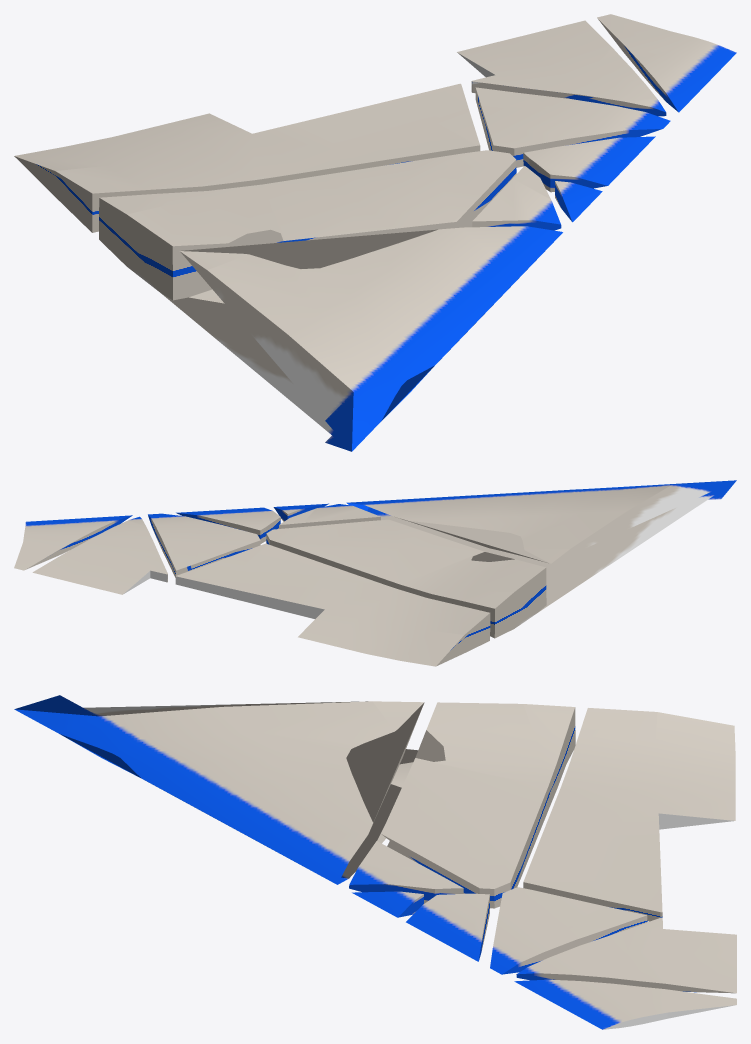
The model's file is heavy_wreckage4.fbx.
3 views of the same model, one above another, from view 1: azimuth 30°, elevation 25°; view 2: azimuth 150°, elevation 25°; view 3: azimuth 270°, elevation 25° (orthographic). The views are drawn at different scales.
Visible parts, largest first — view 1: broke_wingLeft; view 2: broke_wingLeft; view 3: broke_wingLeft.
Part boxes in pixels (x1,y1,x2,y2): broke_wingLeft: (14, 14, 736, 451); broke_wingLeft: (14, 480, 736, 666); broke_wingLeft: (14, 695, 736, 1029).
Size of the model in its own units: 3.06 by 0.2465 by 2.91.
Materials: 1 (1 with a texture image).
